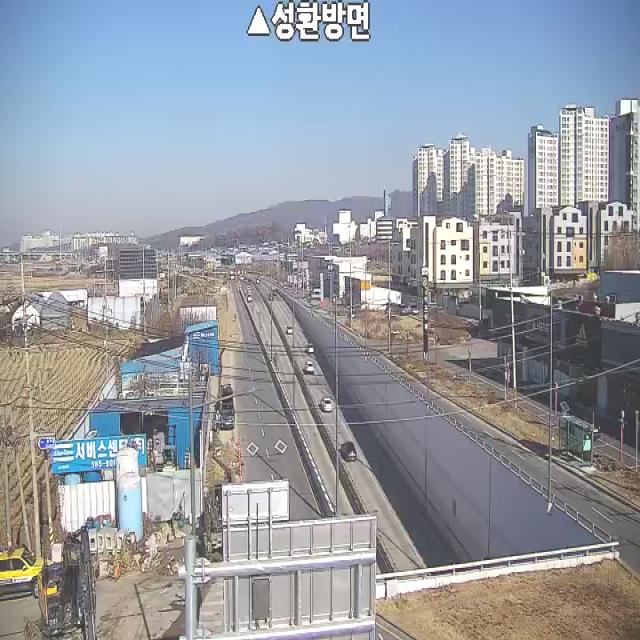Car: (0, 527, 61, 612), (570, 412, 601, 441), (339, 441, 356, 461), (320, 398, 332, 411), (304, 361, 314, 372), (306, 343, 314, 353), (286, 326, 292, 334), (248, 293, 252, 302)
Truck: (19, 499, 99, 640), (190, 471, 227, 574), (222, 385, 235, 429)
